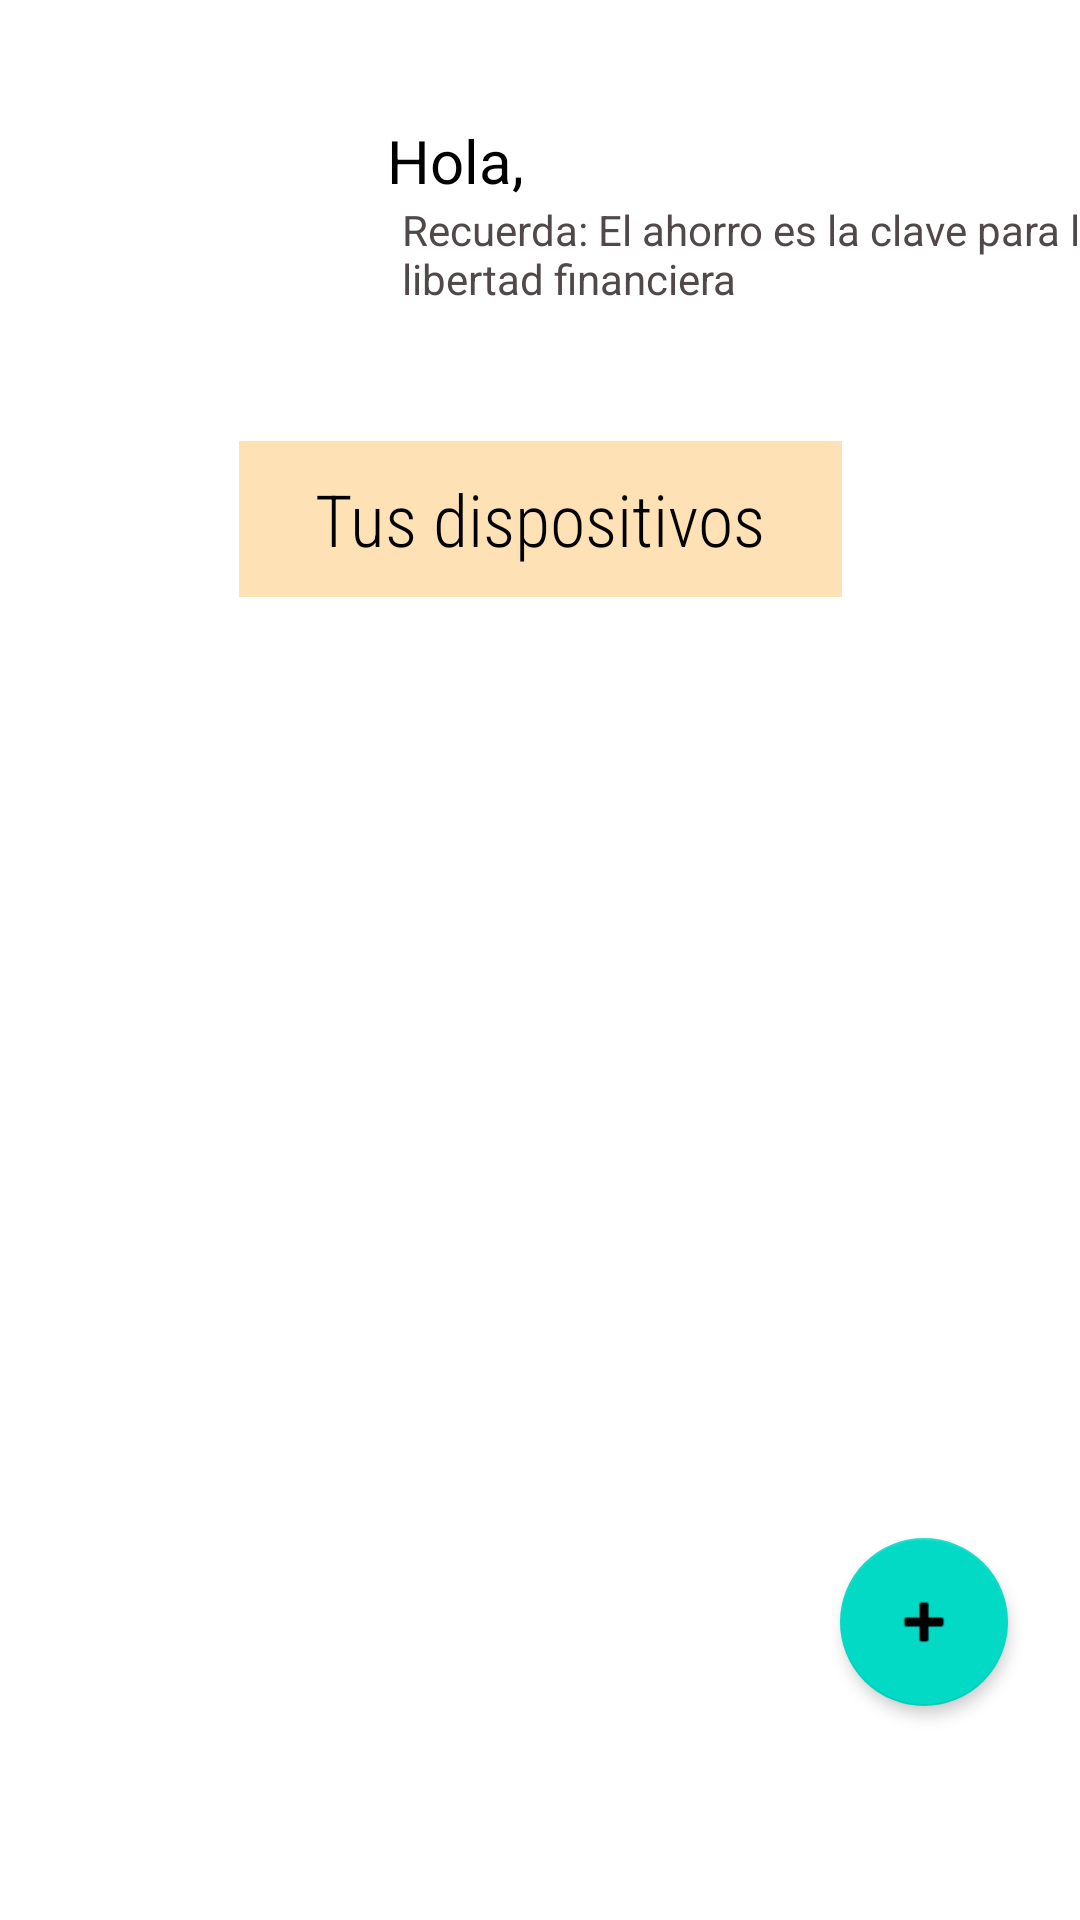

Where icons sit on this 1080x1920 app screen, as (x1,y1,x2,y2):
add: (840,1538,1008,1706)
